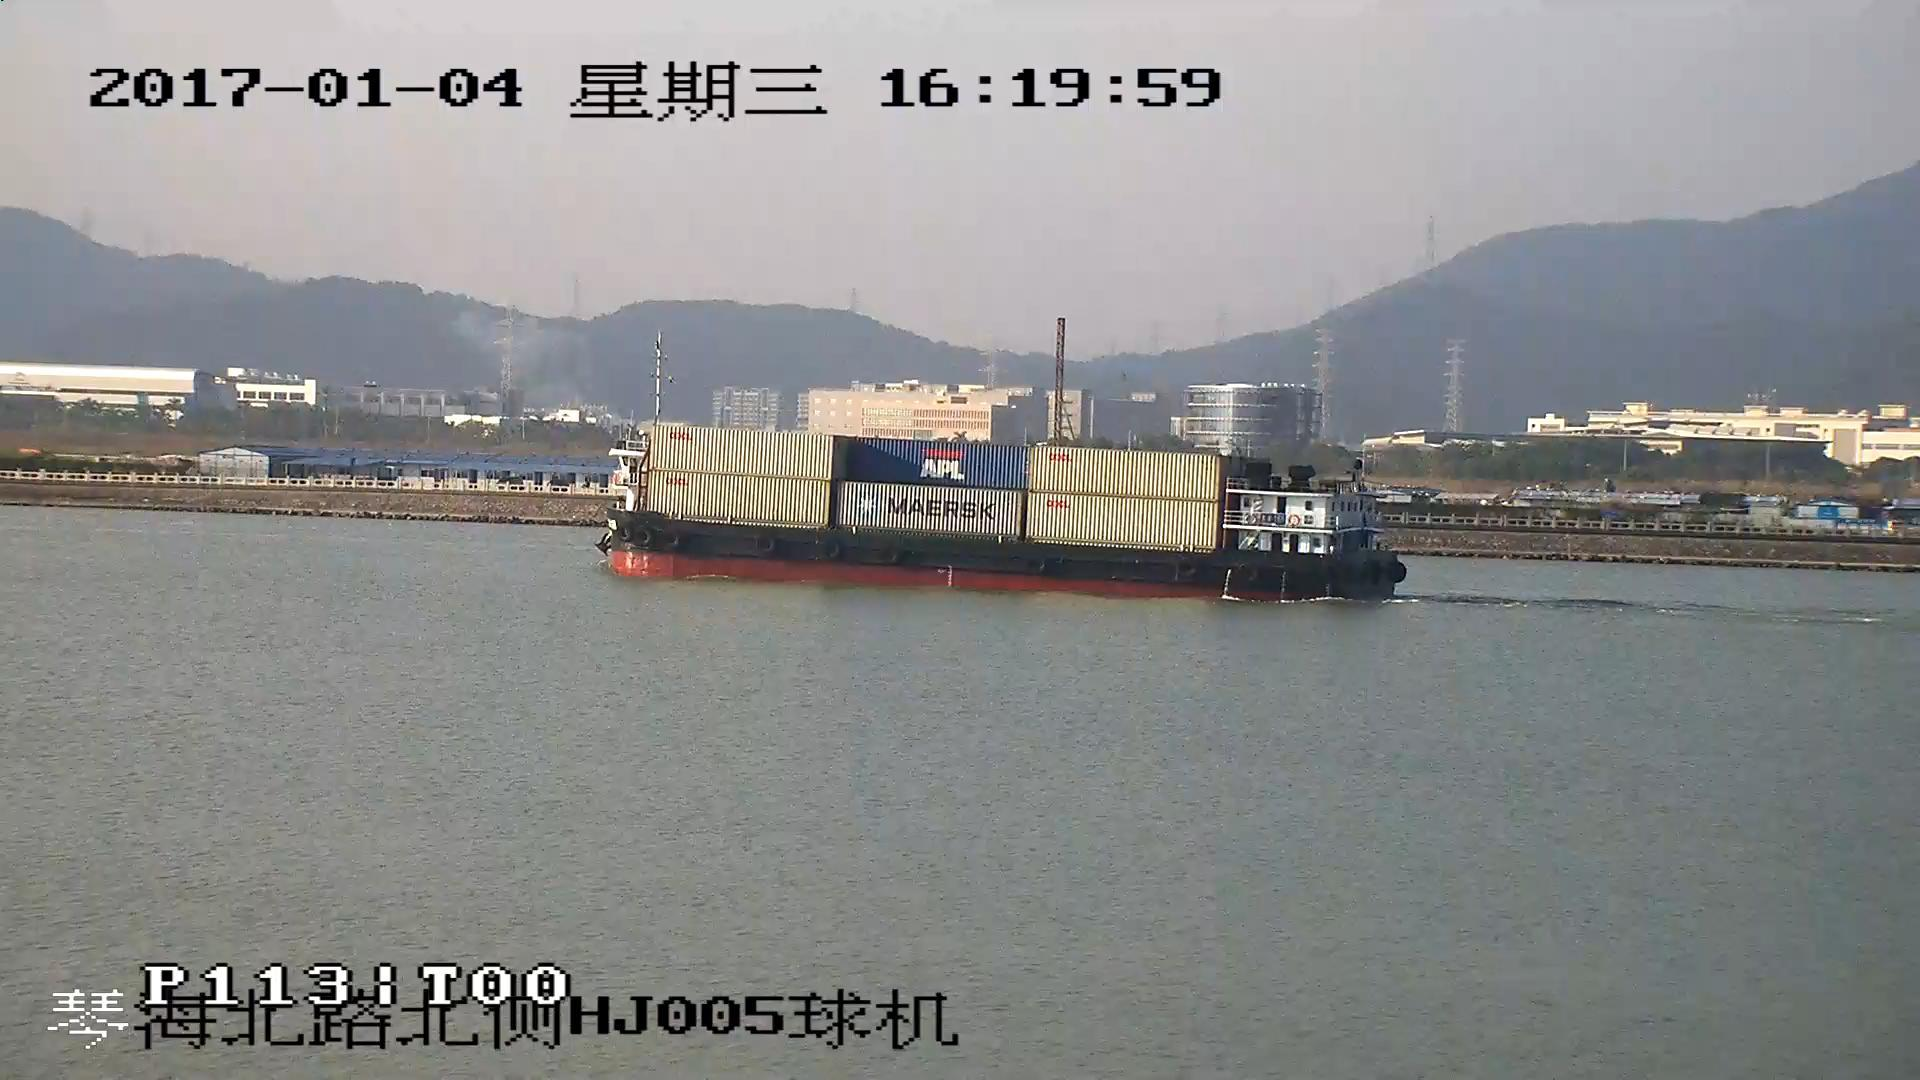Ship: (589, 422, 1406, 603)
